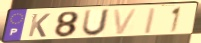1: (169, 6, 185, 34)
8: (53, 11, 81, 39)
I: (142, 7, 158, 36)
K: (27, 13, 52, 38)
U: (80, 8, 112, 38)
V: (112, 8, 139, 36)
